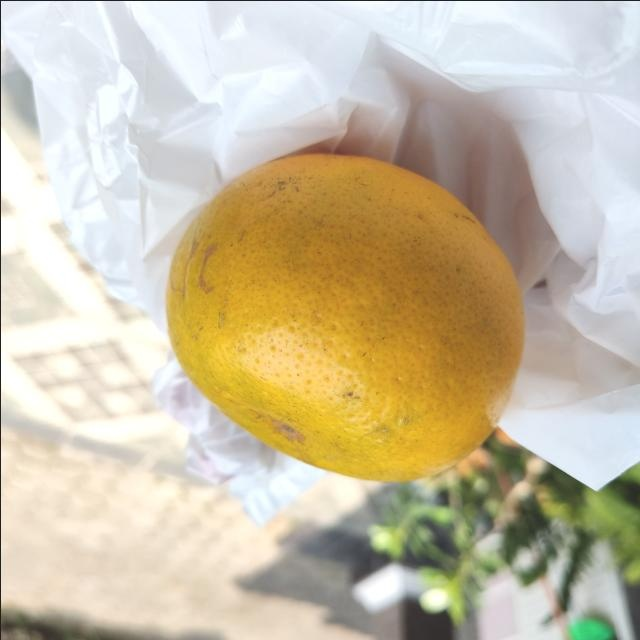agrume: (164, 145, 526, 485)
